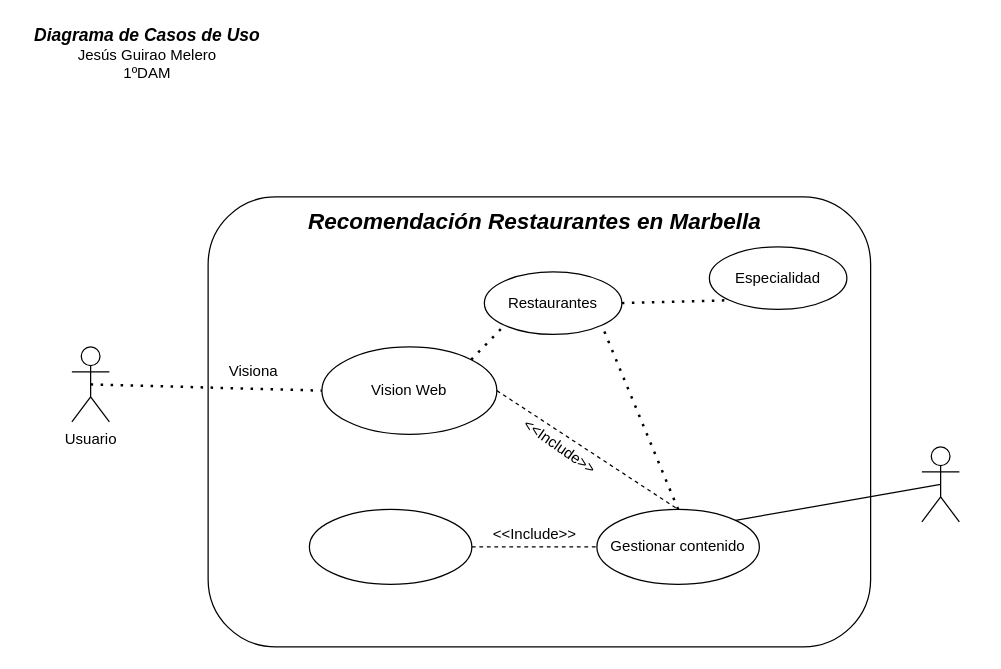
Image size: 1001x669. Some labels were removed from this diagram. Each missing label, with the box of its shape:
Gestionar estadistica Visitas: (308, 508, 472, 584)
Gestor Web: (921, 446, 959, 522)
